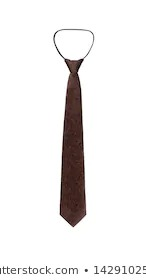F_tie: (45, 24, 100, 231)
